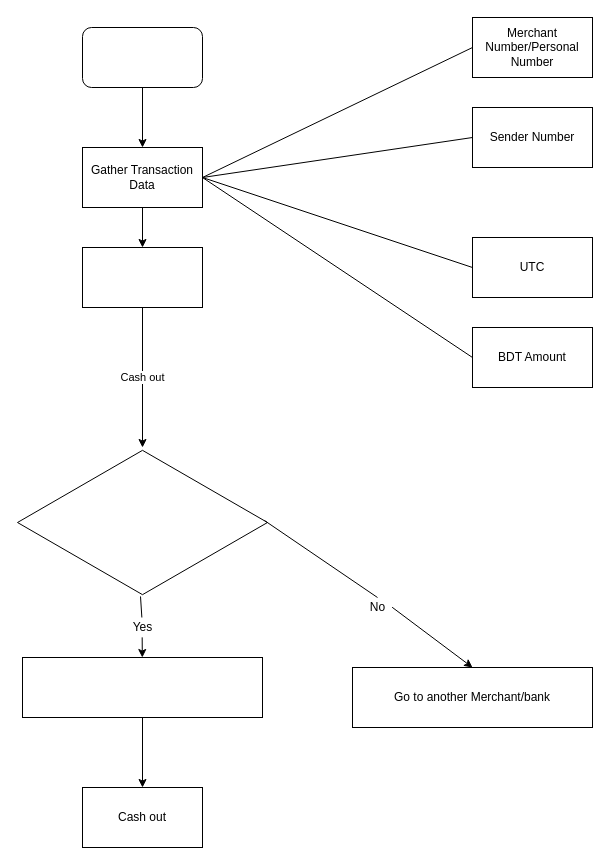
Some shapes in this 610 by 865 pixel diagram are drawn without their labels. The centre of each missing label's shape, as x and y in pixels:
"Does the Merchant/bank have the required BDT?" goes at pixel 142 522.
"Generate NONCE based on Transaction Data" goes at pixel 142 277.
"Provide NONCE and put Fingerprint" goes at pixel 142 687.
"Start" goes at pixel 142 57.
